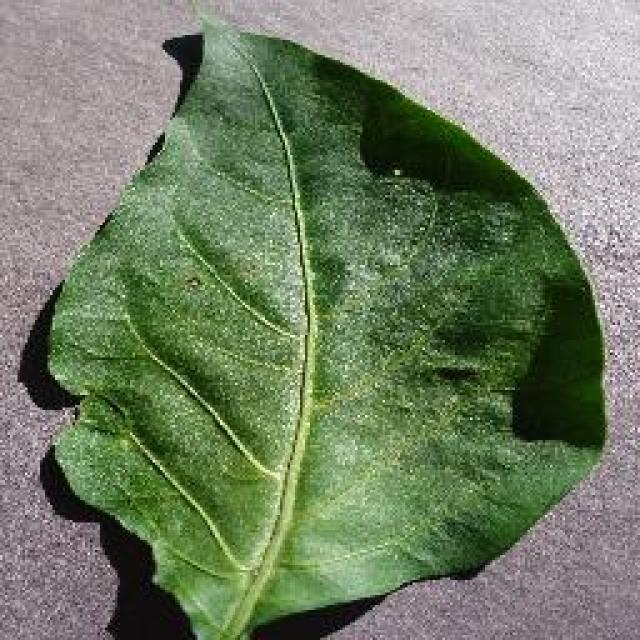Leaf: (125, 65, 546, 495)
